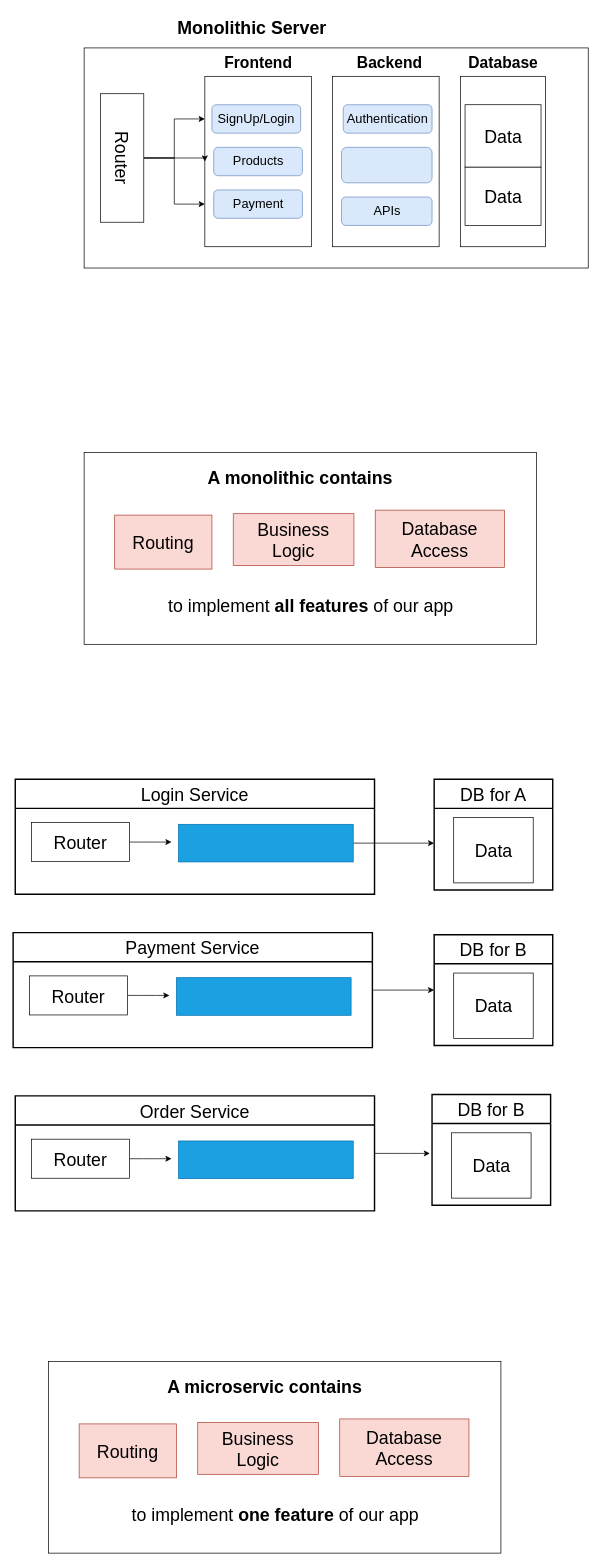
The diagram is 601 pixels wide and 1566 high, and some of its shapes have lost their labels. Each missing label, with the centre of its shape:
"Login Feature" belongs at point (265, 843).
"Order Feature" belongs at point (265, 1159).
"Payment Feature" belongs at point (263, 996).
"Product Management" belongs at point (386, 165).
